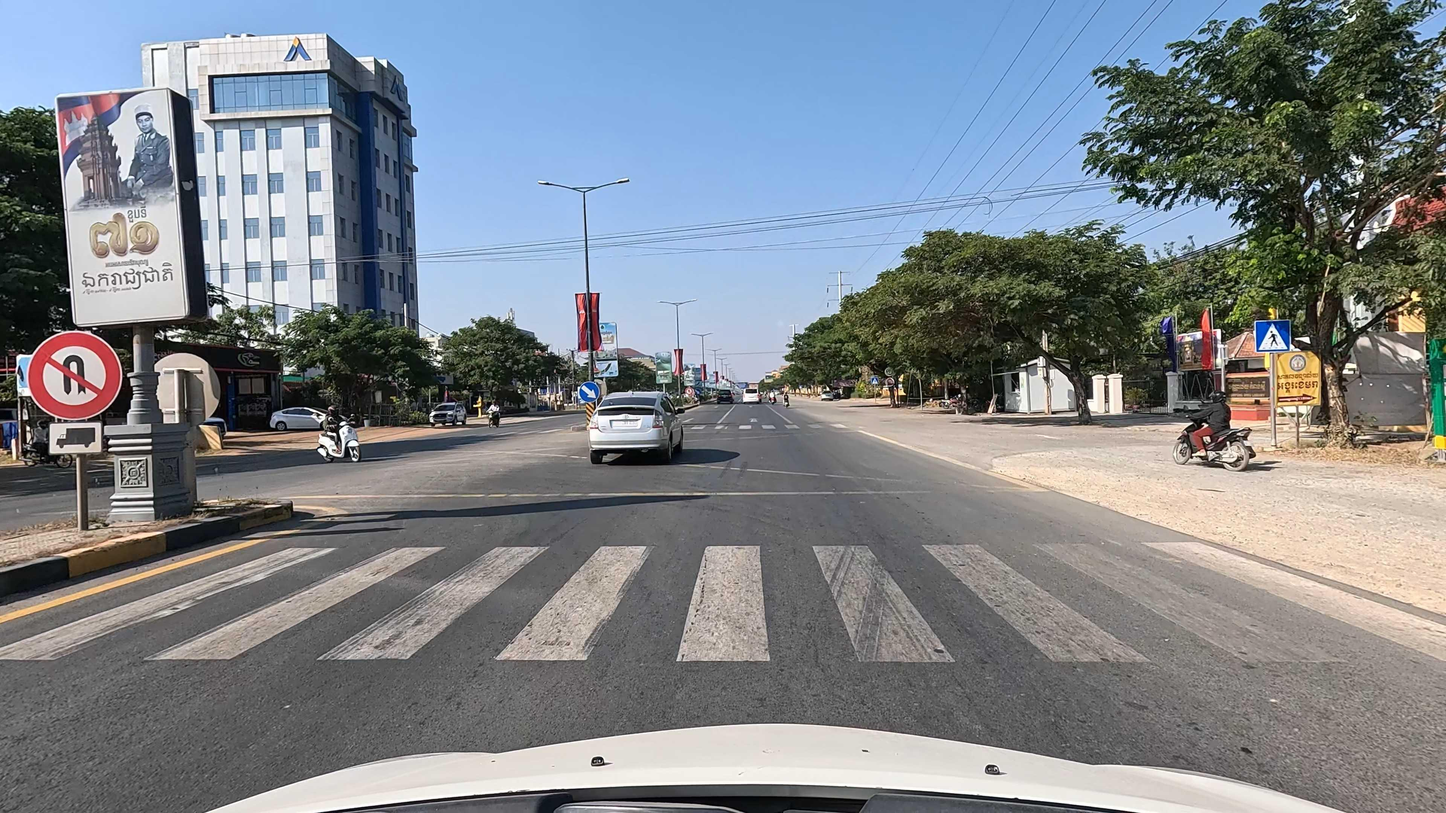no_u_turn: (26, 330, 125, 421), (685, 387, 694, 396)
pedestrian_crossing: (1253, 319, 1291, 353), (871, 376, 879, 385)
